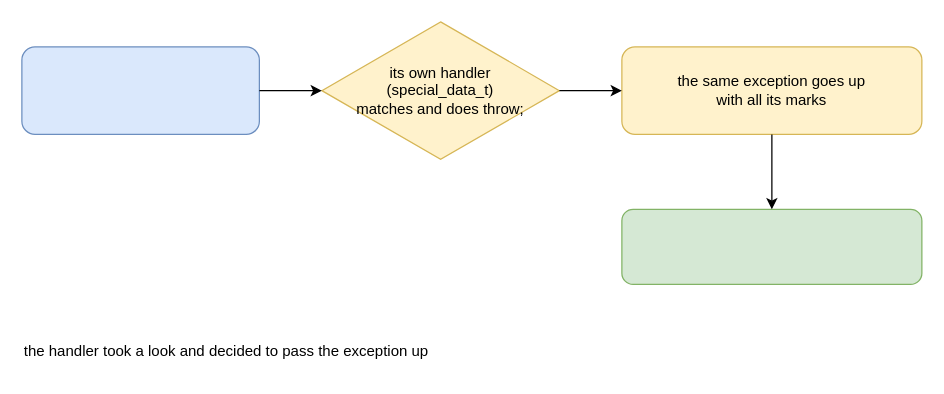
Image size: 944x394. Some labels were removed from this diagram. The shapes that lost their labels are listed below. From the top down, each one's centre as x and y in pixels, then its label:
pixel 140 90: function_lib_C_part_4() throw: library_C + part_4 + special_data_t
pixel 771 246: caller: handler (library_C, part_4) matches
